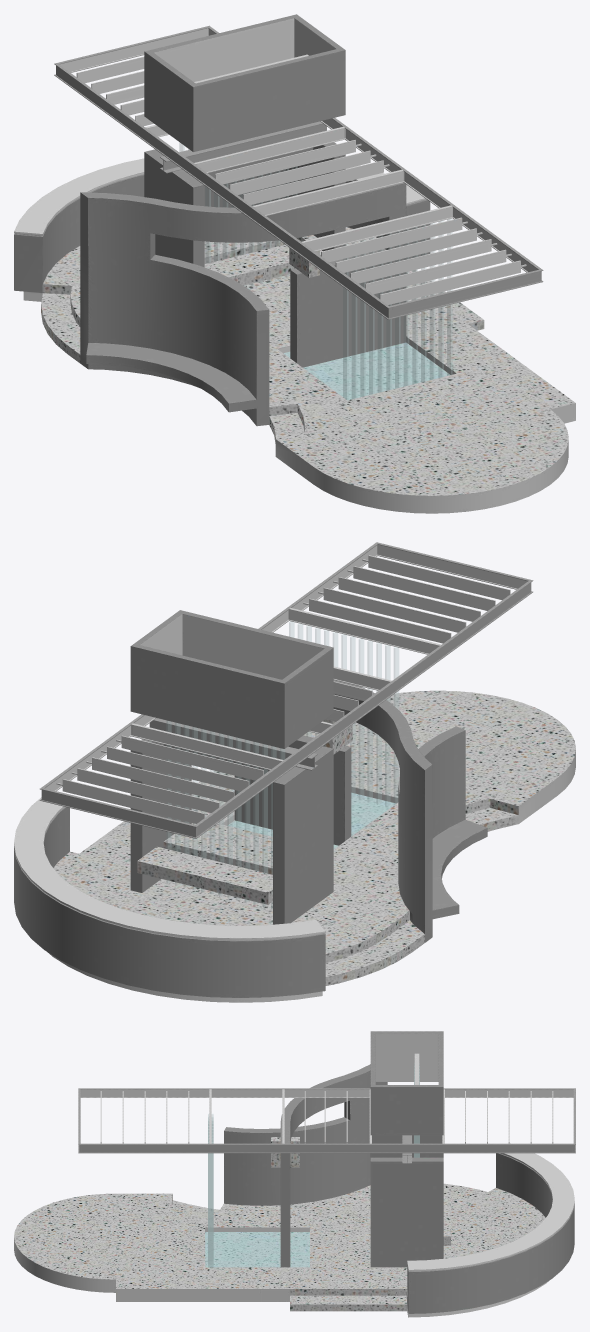
Rendered from booth_low.glb.
The picture shows the model from 3 angles, top to bottom: view 1: azimuth 30°, elevation 25°; view 2: azimuth 150°, elevation 25°; view 3: azimuth 270°, elevation 25°; orthographic projection. The views are drawn at different scales.
Parts seen in each view (by area): view 1: BOOTH_LOW, GLASS_WALLS_LOW; view 2: BOOTH_LOW, GLASS_WALLS_LOW; view 3: BOOTH_LOW, GLASS_WALLS_LOW.
Boxes of the visible parts, x1,y1,x2,y2 form: BOOTH_LOW: [14, 14, 575, 513]; GLASS_WALLS_LOW: [179, 142, 452, 399]; BOOTH_LOW: [14, 542, 575, 1002]; GLASS_WALLS_LOW: [166, 621, 398, 908]; BOOTH_LOW: [14, 1031, 575, 1317]; GLASS_WALLS_LOW: [208, 1063, 419, 1267].
Bounding box in the file's own units: 670 × 440 × 1157.
2 materials, 1 textured.
